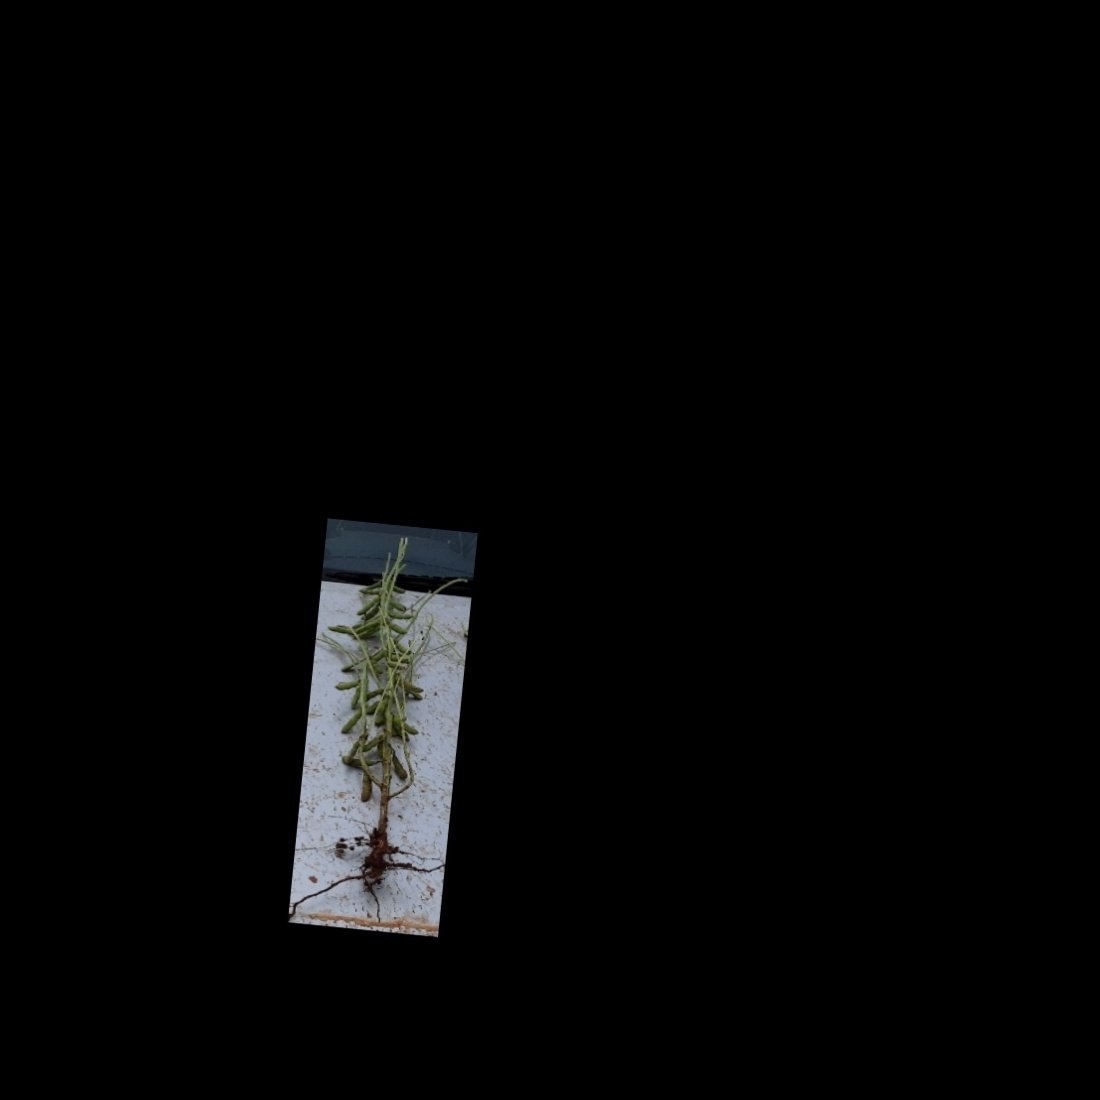pod: (382, 743, 411, 782), (336, 704, 367, 740), (353, 766, 378, 808), (353, 592, 381, 621), (329, 674, 366, 695), (358, 686, 387, 706), (383, 620, 410, 637), (356, 584, 386, 596), (383, 609, 415, 621)
soy: (299, 525, 471, 879)
